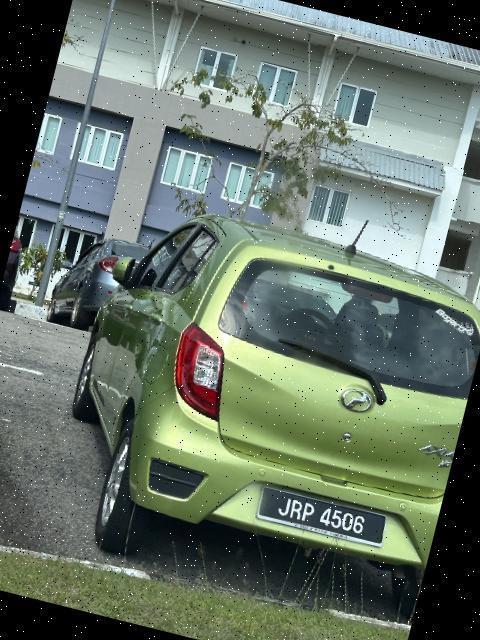JRP4506: (259, 484, 389, 547)
License_Plate: (259, 484, 389, 547)
car: (31, 188, 480, 629)
